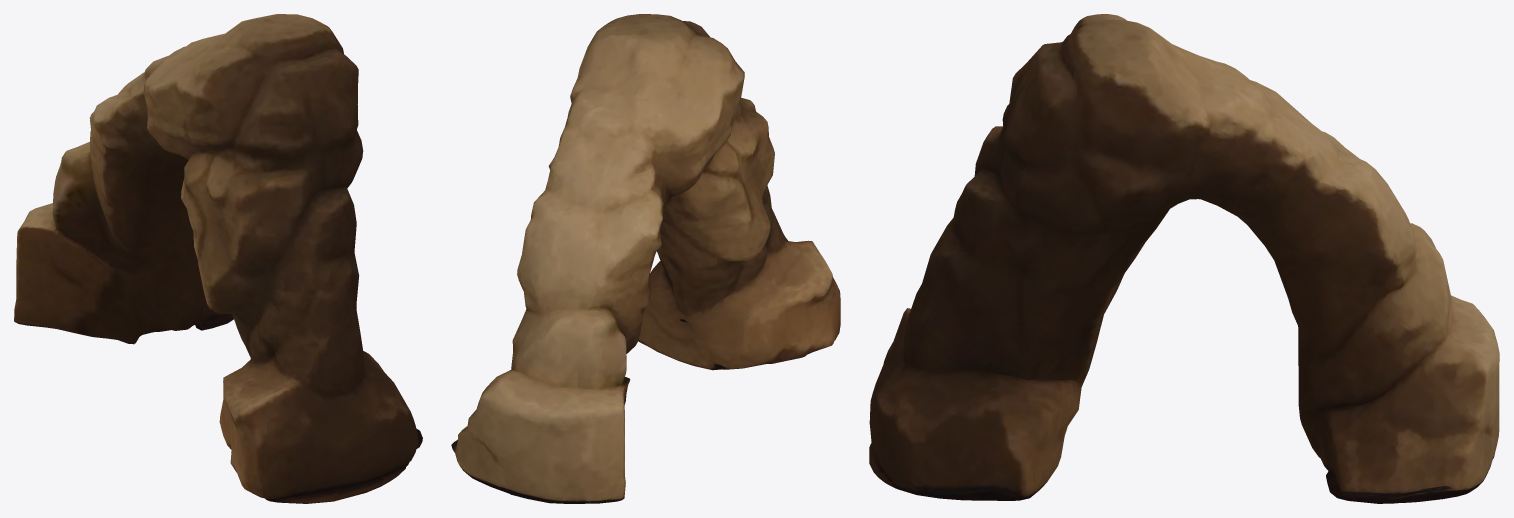
The model's file is PRP_RockArch.glb.
The picture shows the model from 3 angles, left to right: view 1: azimuth 30°, elevation 25°; view 2: azimuth 150°, elevation 25°; view 3: azimuth 270°, elevation 25°; orthographic projection. The views are drawn at different scales.
Visible parts, largest first — view 1: Object_5; view 2: Object_5; view 3: Object_5.
Part boxes in pixels (box(x1,y1,x2,y2)): Object_5: box(14, 14, 422, 503); Object_5: box(451, 14, 840, 503); Object_5: box(869, 14, 1499, 503).
Size of the model in its own units: 0.3964 by 0.7655 by 0.995.
1 material, 1 textured.
